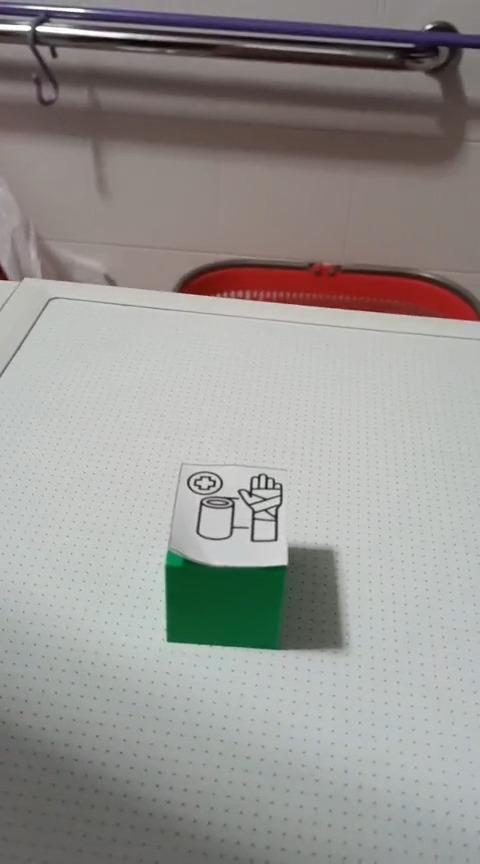Bandages: (163, 462, 290, 650)
